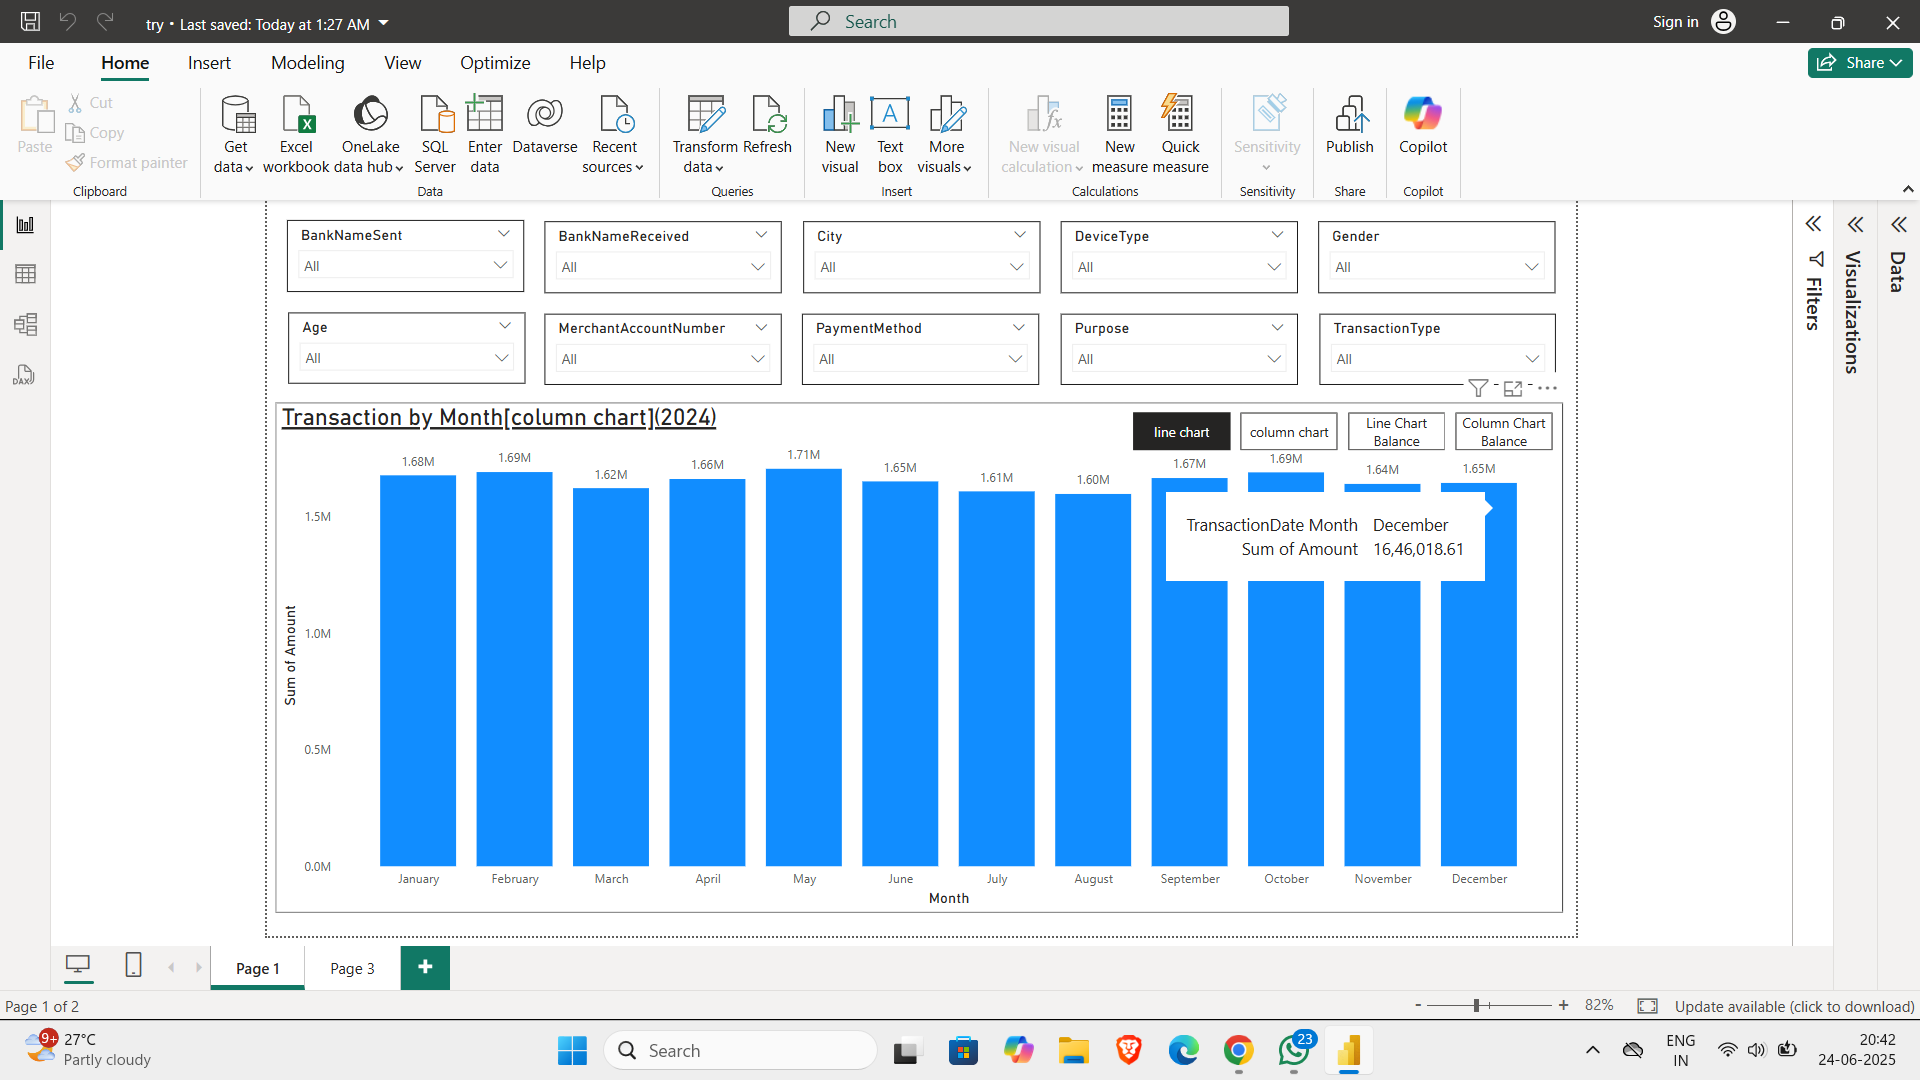

What the dashboard file says about the page in this screenshot:
{"tool":"powerbi","page":{"name":"Page 1","canvas":[1280,720],"ordinal":0},"visuals":[{"type":"slicer","fields":{"Values":["UPITransaction.BankNameSent"]},"box":[20,20,232,70],"z":0},{"type":"slicer","fields":{"Values":["UPITransaction.BankNameReceived"]},"box":[272,20.6,232,70],"z":1000},{"type":"slicer","fields":{"Values":["UPITransaction.DeviceType"]},"box":[776,20.6,231.9,70],"z":3000},{"type":"slicer","fields":{"Values":["UPITransaction.Gender"]},"box":[1029,20.6,232,70],"z":4000},{"type":"slicer","fields":{"Values":["UPITransaction.City"]},"box":[524,20.6,232,70],"z":4500},{"type":"slicer","fields":{"Values":["UPITransaction.Age"]},"box":[20.6,110,231.9,70],"z":5000},{"type":"slicer","fields":{"Values":["UPITransaction.PaymentMethod"]},"box":[522.8,111.1,231.9,70],"z":6000},{"type":"slicer","fields":{"Values":["UPITransaction.MerchantAccountNumber"]},"box":[271.7,111.1,231.9,70],"z":7000},{"type":"slicer","fields":{"Values":["UPITransaction.Purpose"]},"box":[776.7,111.1,231.9,70],"z":8000},{"type":"slicer","fields":{"Values":["UPITransaction.TransactionType"]},"box":[1029.6,111.3,231.4,69.4],"z":9000},{"type":"columnChart","title":"Transaction by Month[column chart](2024)","fields":{"Category":["UPITransaction.TransactionDate.Variation.Date Hierarchy.Month"],"Y":["Sum(UPITransaction.Amount)"]},"box":[8.7,198.1,1259.5,498.9],"z":11000},{"type":"bookmarkNavigator","box":[847.4,207.9,413.3,37.9],"z":14000}]}

Visuals, with their boxes on the page's 1280x720 design canvas (x1, y1, x2, y2). These are canvas units, not pixel positions in the 1920x1080 screenshot, which may show the page scaled, cropped or inside an application window:
slicer - UPITransaction.BankNameSent: bbox(20, 20, 252, 90)
slicer - UPITransaction.BankNameReceived: bbox(272, 21, 504, 91)
slicer - UPITransaction.DeviceType: bbox(776, 21, 1008, 91)
slicer - UPITransaction.Gender: bbox(1029, 21, 1261, 91)
slicer - UPITransaction.City: bbox(524, 21, 756, 91)
slicer - UPITransaction.Age: bbox(21, 110, 252, 180)
slicer - UPITransaction.PaymentMethod: bbox(523, 111, 755, 181)
slicer - UPITransaction.MerchantAccountNumber: bbox(272, 111, 504, 181)
slicer - UPITransaction.Purpose: bbox(777, 111, 1009, 181)
slicer - UPITransaction.TransactionType: bbox(1030, 111, 1261, 181)
"Transaction by Month[column chart](2024)" columnChart: bbox(9, 198, 1268, 697)
bookmarkNavigator: bbox(847, 208, 1261, 246)
